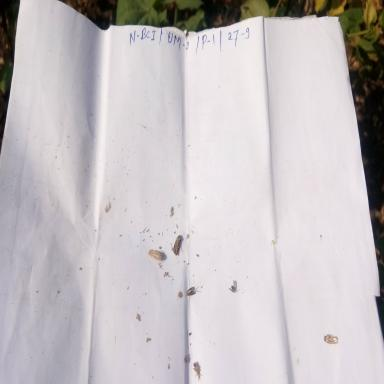pbw: (146, 240, 168, 266), (170, 224, 184, 260), (318, 328, 341, 344), (185, 284, 203, 298), (227, 278, 239, 296)
